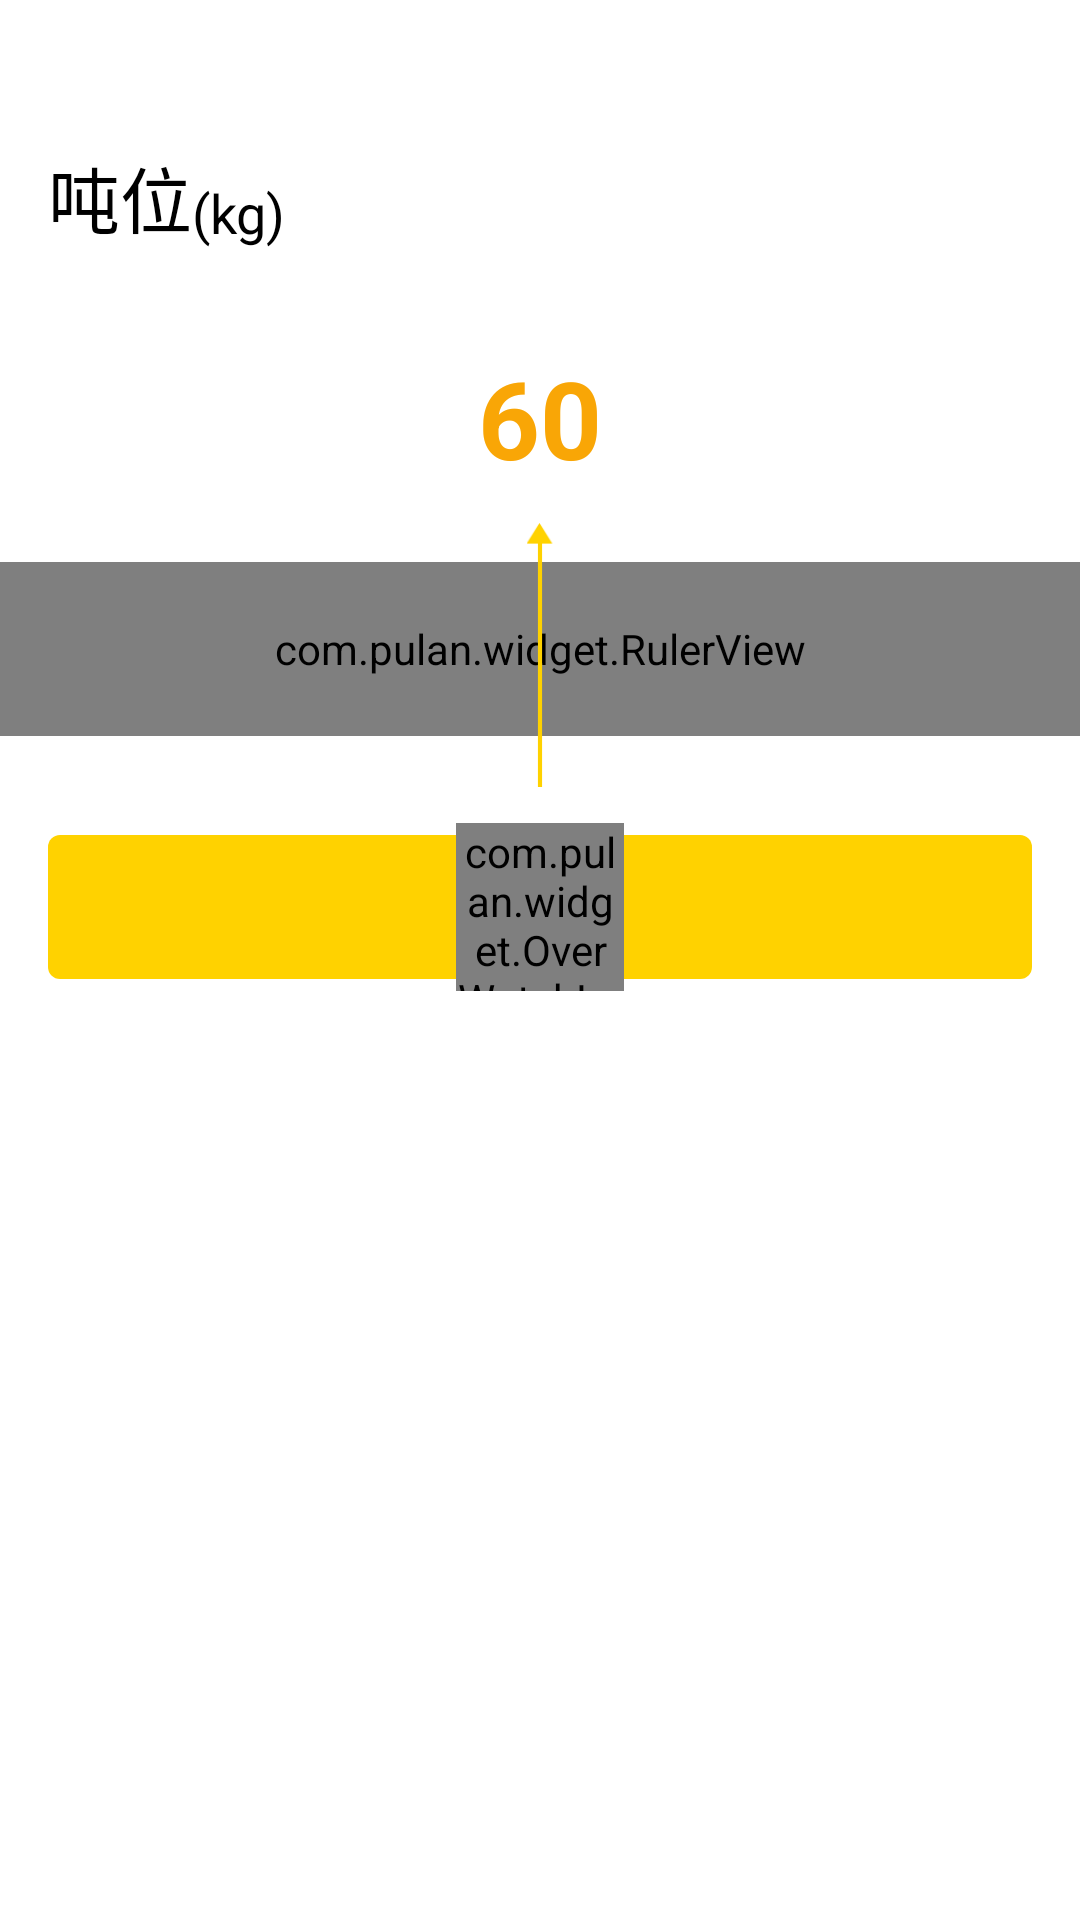

Screen size 1080w x 1920h. Icon name, then its center in pixels as (x,y):
indicator: (540,655)
